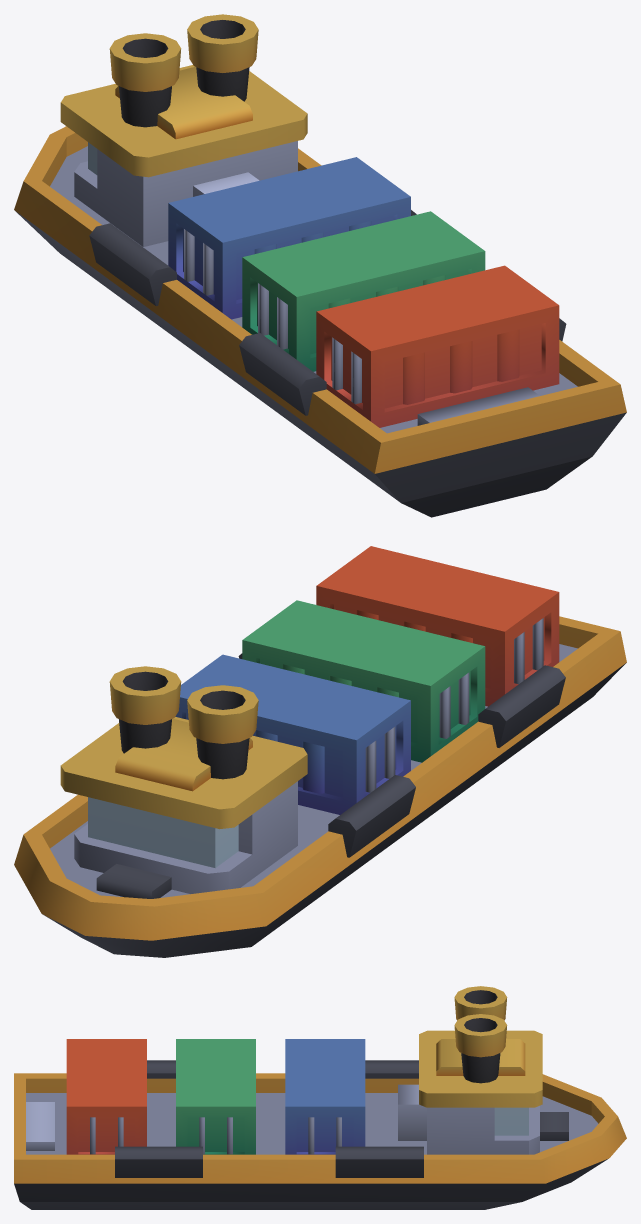
The model's file is boat_7.fbx.
3 renders of one model, top to bottom at view 1: azimuth 30°, elevation 25°; view 2: azimuth 150°, elevation 25°; view 3: azimuth 270°, elevation 25°, orthographic. The views are drawn at different scales.
Visible parts, largest first — view 1: ship-cargo-a; view 2: ship-cargo-a; view 3: ship-cargo-a.
Part boxes in pixels (x1=…): ship-cargo-a: x1=14, y1=14, x2=626, y2=517; ship-cargo-a: x1=14, y1=546, x2=626, y2=957; ship-cargo-a: x1=14, y1=986, x2=626, y2=1209.
Size of the model in its own units: 0.3713 by 0.3204 by 1.
